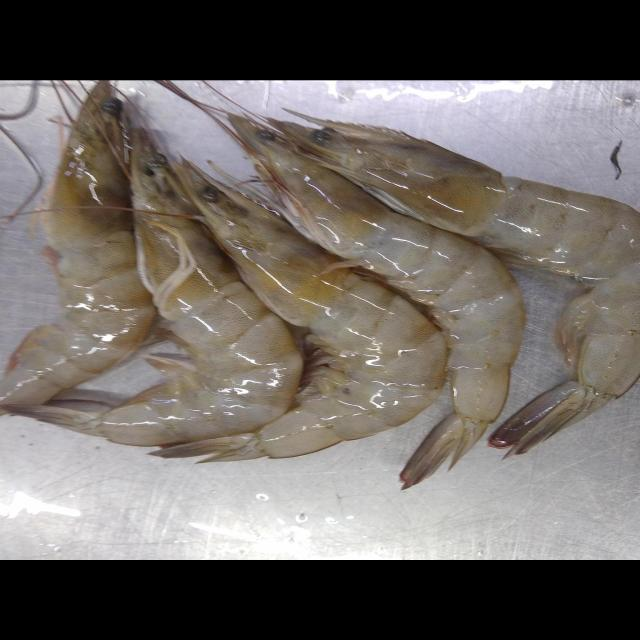shrimp: (270, 117, 640, 456), (233, 117, 526, 488), (174, 160, 448, 460), (76, 128, 304, 446), (0, 81, 155, 406)
